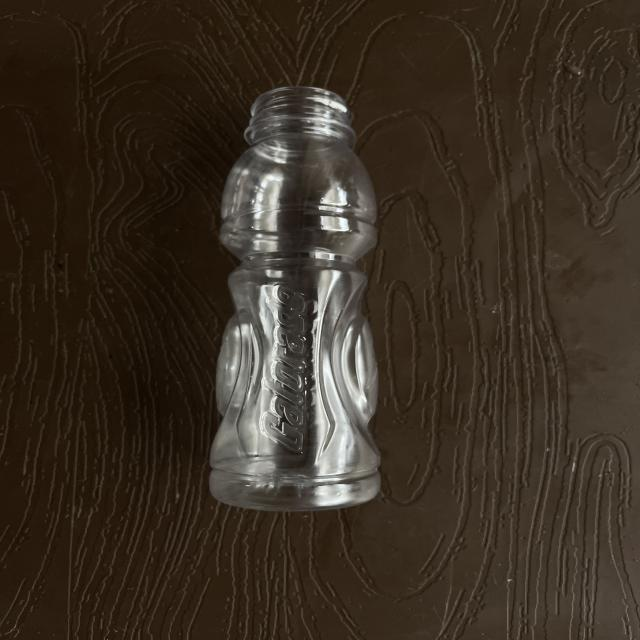PET_ClearBottle: (190, 76, 401, 518)
